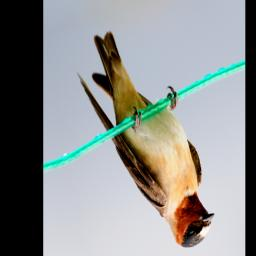Swallow: (72, 0, 219, 256)
